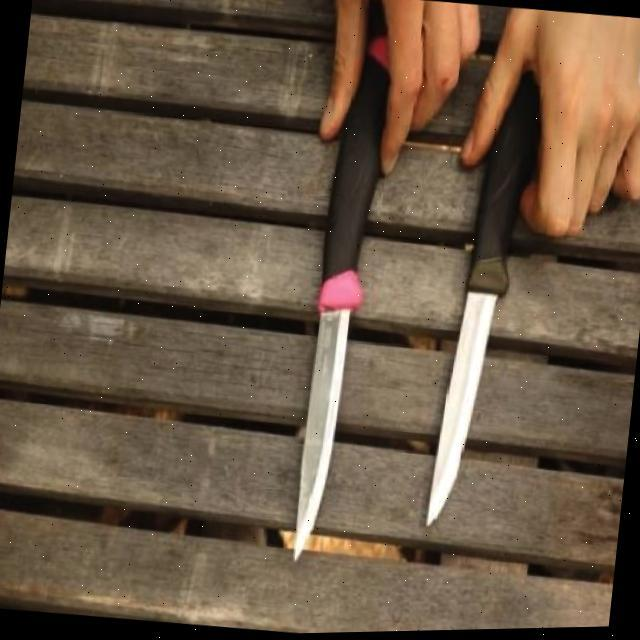knife: (290, 38, 395, 564), (424, 70, 543, 534)
